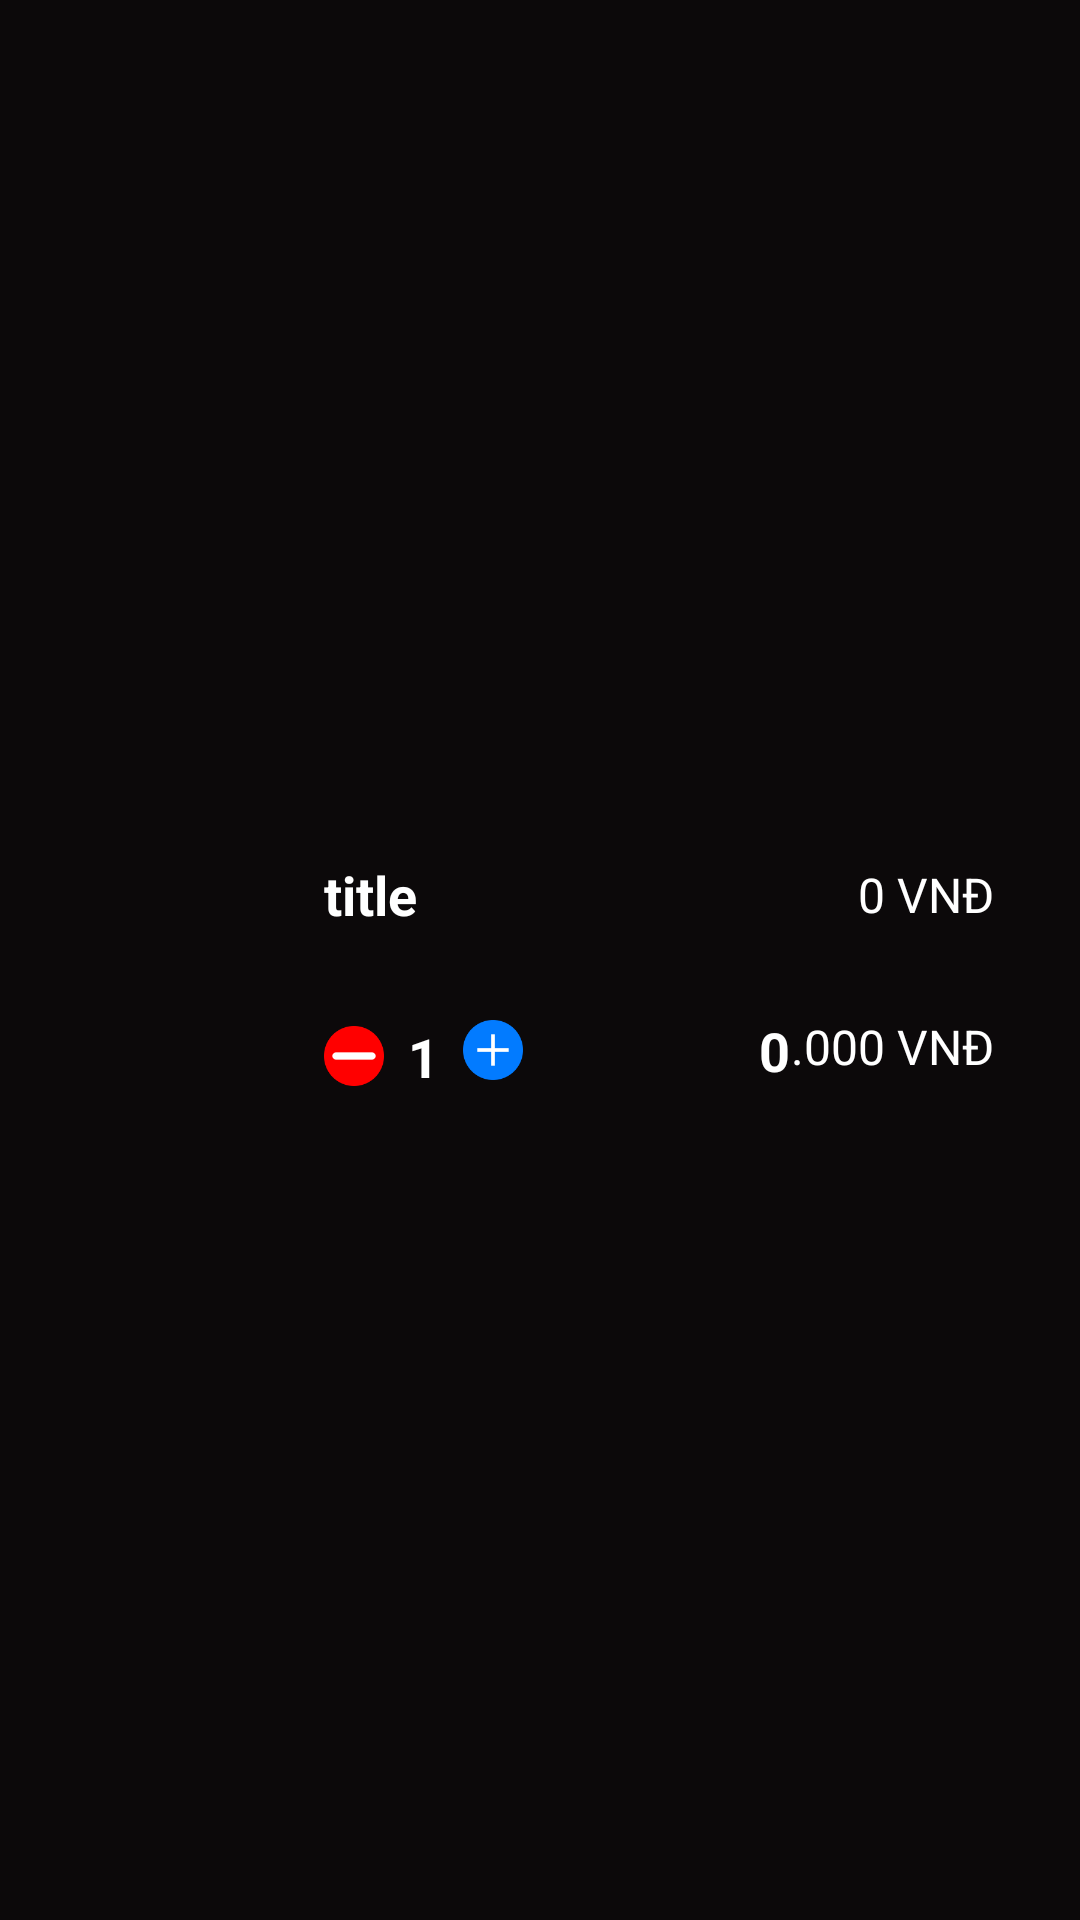

Where to tap for icons on this 1080px×1920px app screen, as point (x, y):
plus: point (493, 1050)
subtract: point (354, 1056)
